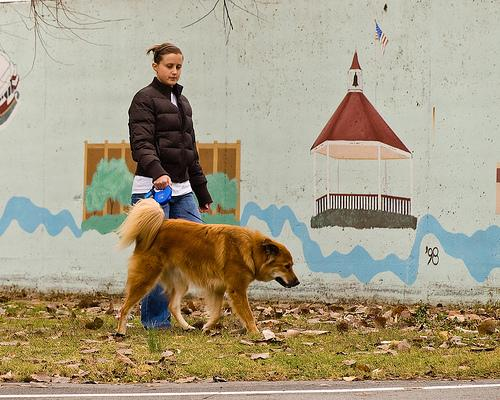person: (127, 43, 212, 327)
